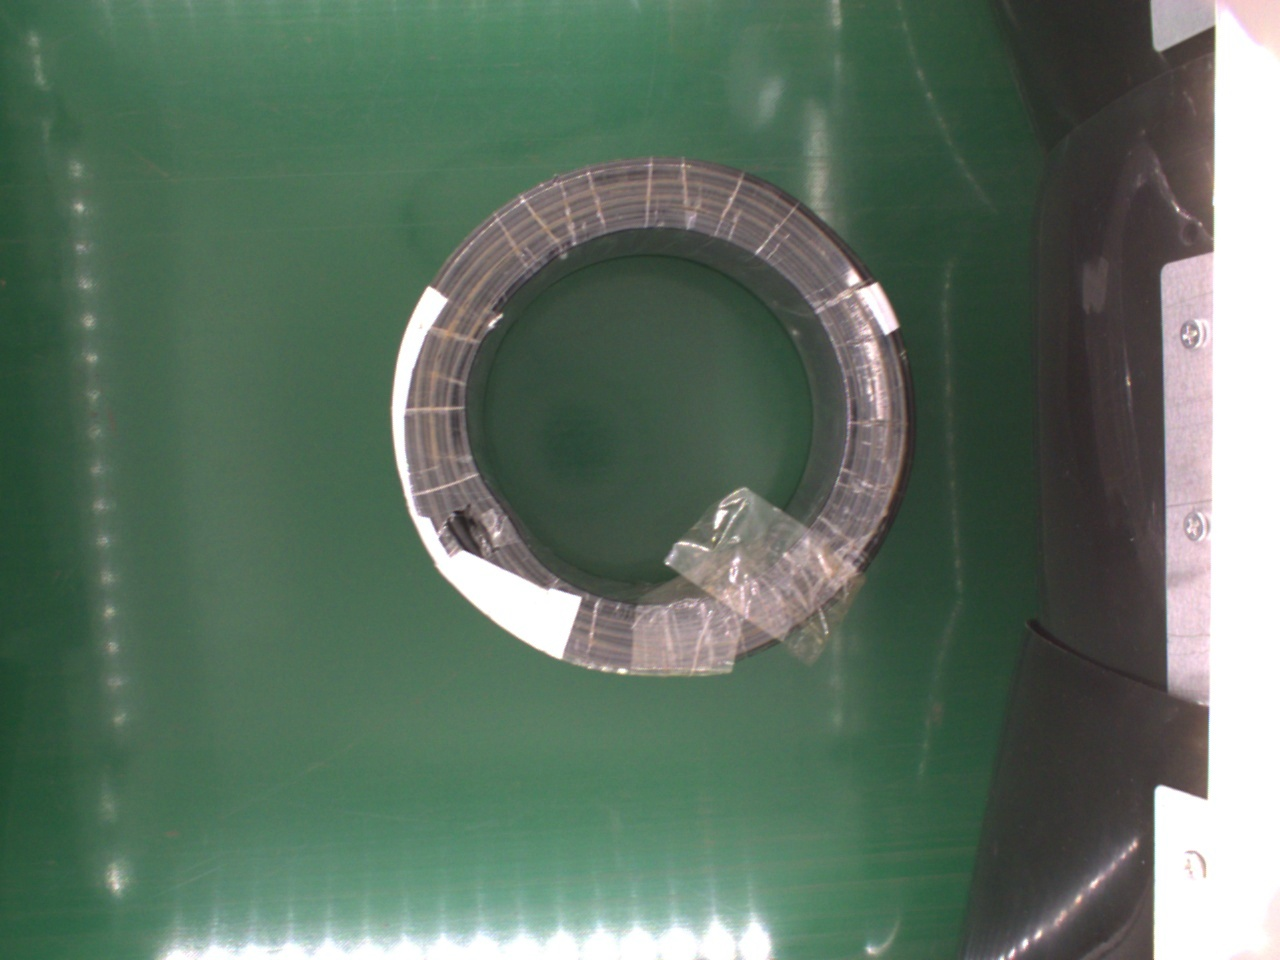black: (390, 152, 913, 676)
